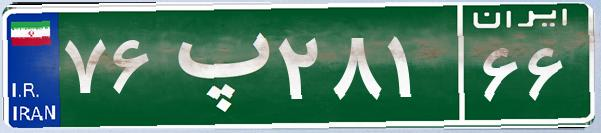1: (385, 28, 445, 110)
2: (273, 28, 330, 110)
6: (475, 38, 525, 113), (110, 28, 158, 105), (525, 38, 570, 115)
7: (57, 26, 110, 107)
8: (330, 28, 385, 110)
پ: (158, 15, 273, 115)
